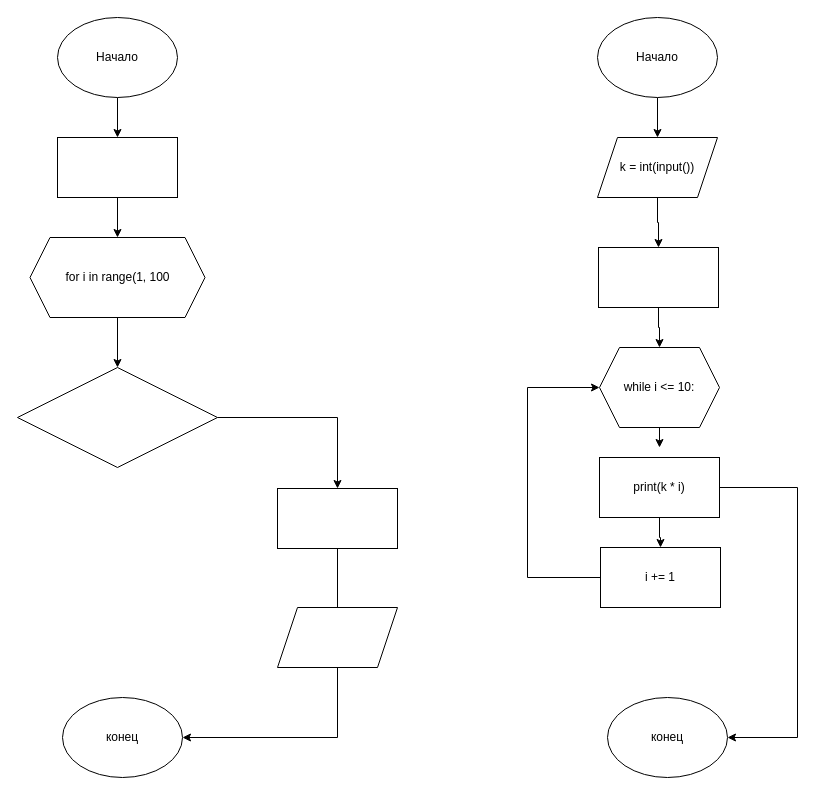
This 823x795 diagram has some shape labels left out. Each missing label, with the centre of its shape:
"count += 1" goes at pixel 337 518.
"count = 0" goes at pixel 117 167.
"i = 1" goes at pixel 658 277.
"if i % 2 == 0:" goes at pixel 117 417.
"print(count)" goes at pixel 337 637.
